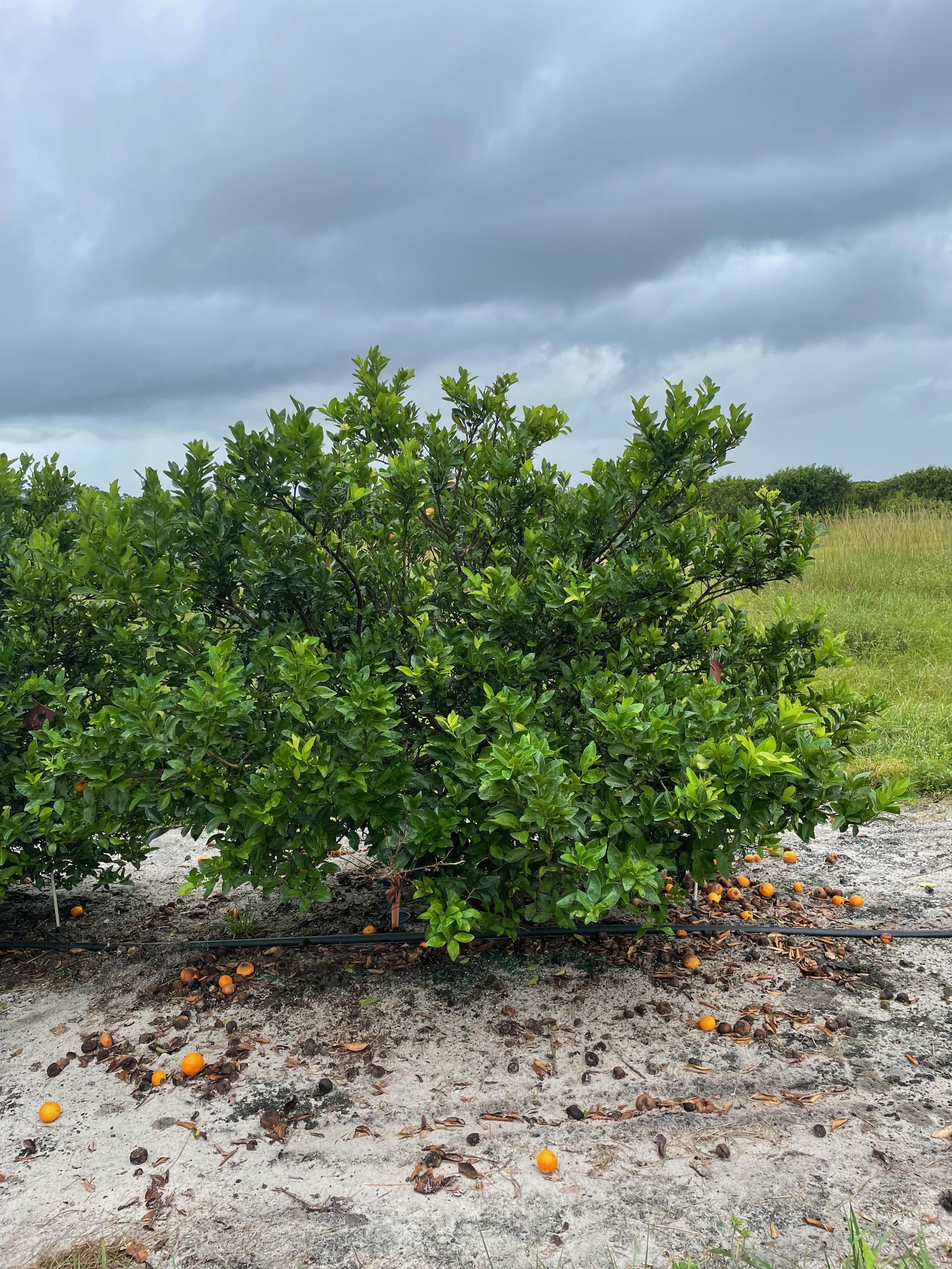fruit_on_ground: (71, 773, 95, 795), (422, 506, 437, 520)
fruit_on_tree: (535, 1147, 560, 1175), (36, 1098, 62, 1124), (180, 1050, 205, 1076), (635, 1091, 657, 1110), (259, 1110, 281, 1128), (733, 1016, 753, 1035), (179, 965, 199, 984), (681, 951, 700, 970), (698, 1013, 717, 1032), (236, 959, 256, 977), (150, 1068, 168, 1086), (714, 1141, 731, 1160), (566, 1103, 584, 1120), (317, 1077, 335, 1094), (714, 1018, 732, 1035), (758, 880, 775, 897), (98, 1031, 114, 1049), (810, 884, 828, 899), (705, 881, 724, 895), (705, 890, 722, 905), (69, 903, 86, 918), (782, 848, 799, 863), (219, 982, 237, 996), (848, 893, 864, 908), (217, 974, 234, 988), (830, 892, 845, 907), (226, 906, 241, 920), (825, 851, 840, 865), (725, 886, 740, 900), (736, 873, 751, 887), (362, 922, 378, 935), (739, 907, 754, 920), (195, 852, 210, 865), (879, 931, 893, 944), (830, 887, 845, 899), (416, 939, 431, 951), (791, 880, 804, 893), (767, 844, 781, 856), (742, 853, 755, 864), (663, 881, 675, 892), (750, 852, 763, 862)
